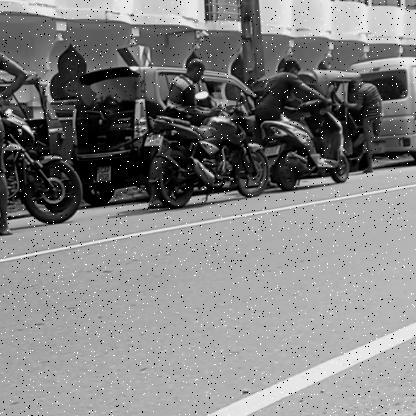motorcycle: (134, 80, 276, 218), (254, 75, 366, 198), (0, 104, 93, 248)
